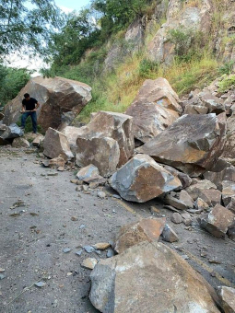stone: (76, 237, 230, 313), (1, 63, 96, 131), (133, 106, 232, 166), (106, 147, 190, 208), (120, 74, 187, 147), (98, 212, 178, 256), (194, 194, 235, 236)
